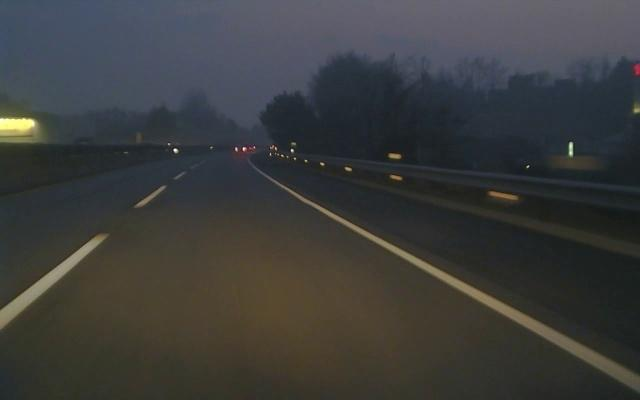lane: (261, 174, 640, 394), (0, 171, 185, 331)
